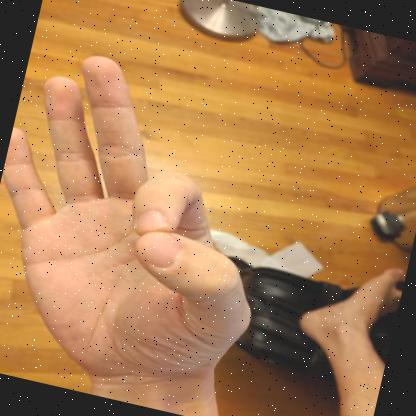F: (2, 56, 251, 409)
